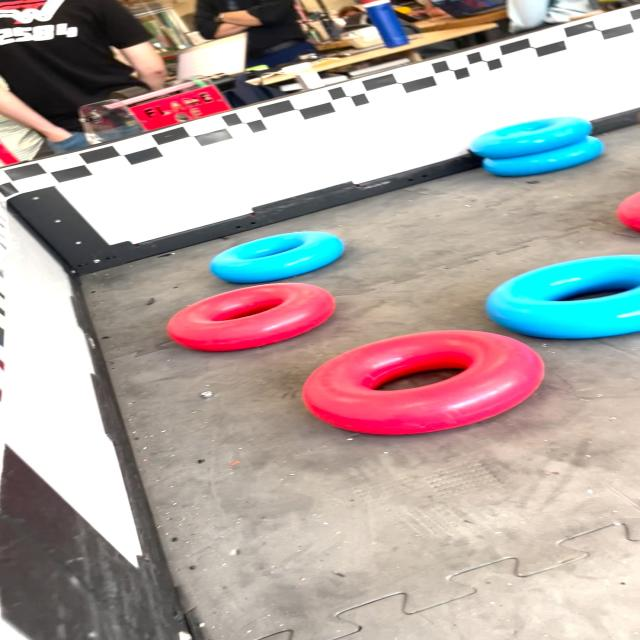Blue-Ring: (487, 255, 640, 339), (211, 231, 344, 282), (469, 118, 591, 159), (482, 136, 604, 176)
Red-Ring: (302, 330, 544, 434), (167, 282, 336, 351)
